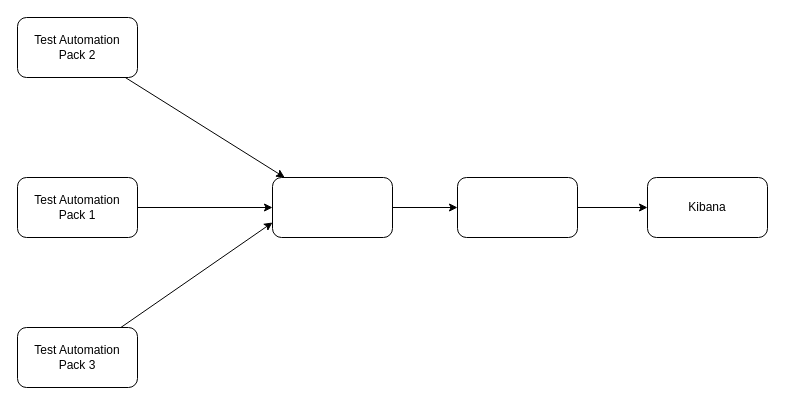
Image size: 785x405. Some labels were removed from this diagram. Here are the shapes that lost their labels. From the top down, the box of each, then its label:
(272, 176, 392, 238): Kafka
(456, 176, 578, 238): Elastic Search
